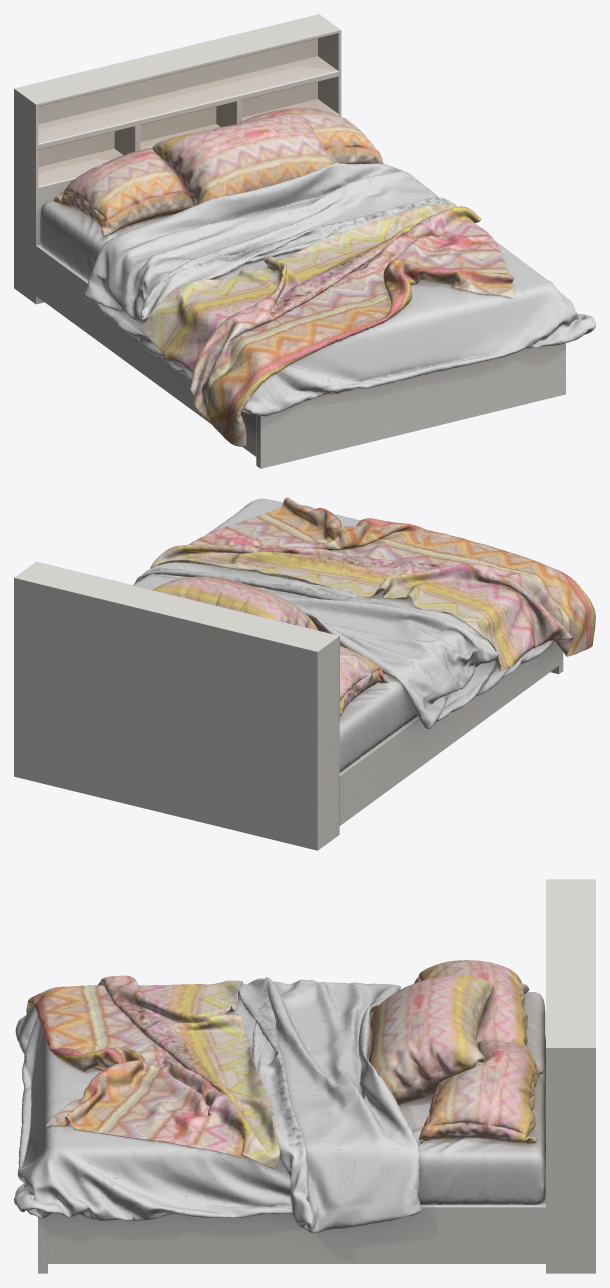
File: bed.glb
The picture shows the model from 3 angles, top to bottom: view 1: azimuth 30°, elevation 25°; view 2: azimuth 150°, elevation 25°; view 3: azimuth 270°, elevation 25°; orthographic projection. The views are drawn at different scales.
Visible parts, largest first — view 1: Object_16, Object_10, Object_8, Object_6, Object_12, Object_14, Object_18; view 2: Object_8, Object_10, Object_16, Object_12, Object_14, Object_18; view 3: Object_16, Object_8, Object_10, Object_18, Object_12, Object_14.
Part boxes in pixels (box(x1,y1,x2,y2)): Object_16: box(84, 163, 595, 416); Object_10: box(36, 30, 512, 446); Object_8: box(14, 14, 565, 468); Object_6: box(38, 33, 339, 187); Object_12: box(140, 207, 513, 446); Object_14: box(87, 199, 513, 446); Object_18: box(39, 162, 595, 425); Object_8: box(14, 562, 563, 850); Object_10: box(44, 505, 595, 721); Object_16: box(133, 498, 554, 728); Object_12: box(154, 499, 595, 670); Object_14: box(145, 497, 595, 714); Object_18: box(133, 499, 582, 771); Object_16: box(14, 977, 421, 1233); Object_8: box(38, 879, 595, 1273); Object_10: box(32, 960, 543, 1168); Object_18: box(15, 976, 545, 1233); Object_12: box(26, 975, 274, 1167); Object_14: box(16, 975, 358, 1168).
Bounding box in the file's own units: 199 × 100 × 233.
2 materials, 2 textured.
